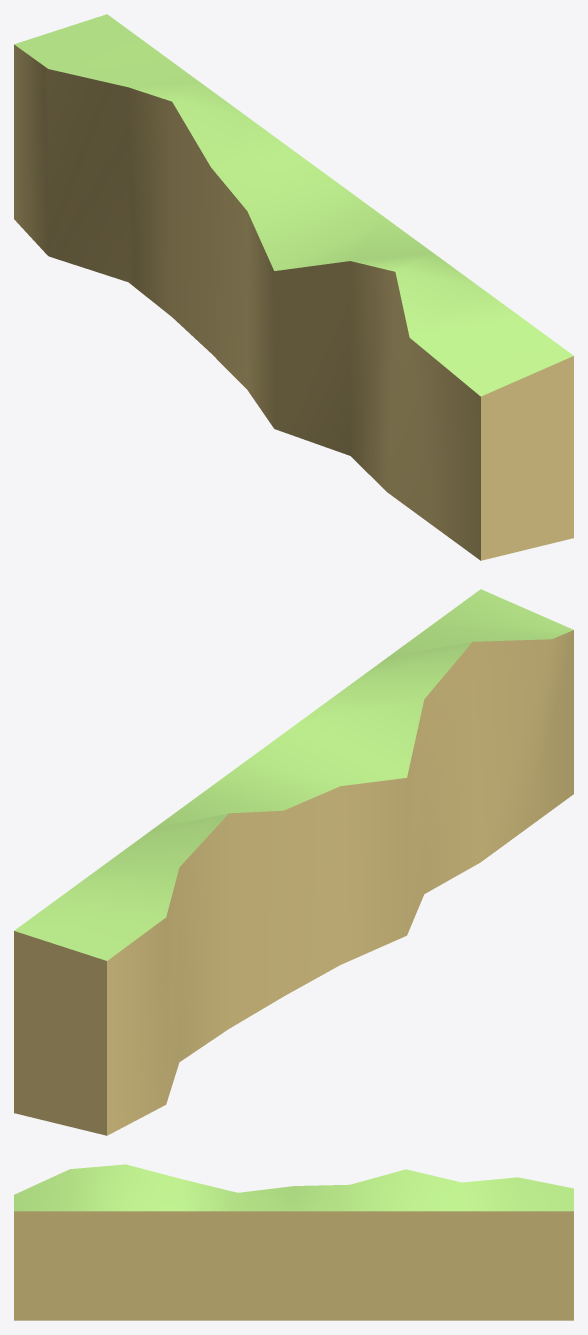
The model's file is CliffSide.fbx.
3 renders of one model, top to bottom at view 1: azimuth 30°, elevation 25°; view 2: azimuth 150°, elevation 25°; view 3: azimuth 270°, elevation 25°, orthographic. The views are drawn at different scales.
Parts seen in each view (by area): view 1: pCube1; view 2: pCube1; view 3: pCube1.
Boxes of the visible parts, <box> form: pCube1: <box>14,14,573,560</box>; pCube1: <box>14,589,573,1135</box>; pCube1: <box>14,1164,573,1320</box>.
Bounding box in the file's own units: 1.26 × 2.24 × 8.68.
